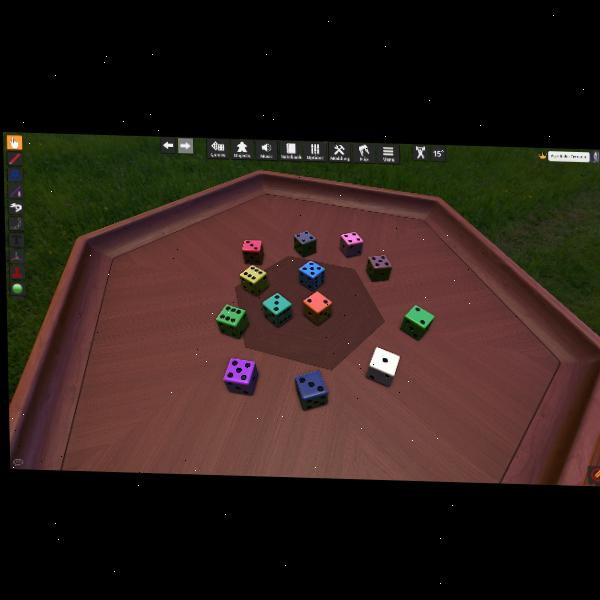d6: (223, 355, 260, 394), (366, 346, 400, 386), (295, 369, 328, 410), (400, 304, 433, 340), (217, 303, 249, 338), (261, 292, 292, 328), (303, 290, 333, 326), (239, 263, 269, 295), (298, 260, 326, 292), (365, 255, 391, 283), (293, 230, 317, 258), (340, 231, 362, 258), (242, 239, 263, 264)
